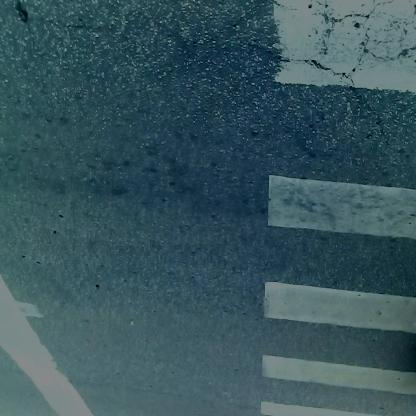crosswalk: (253, 2, 413, 414)
